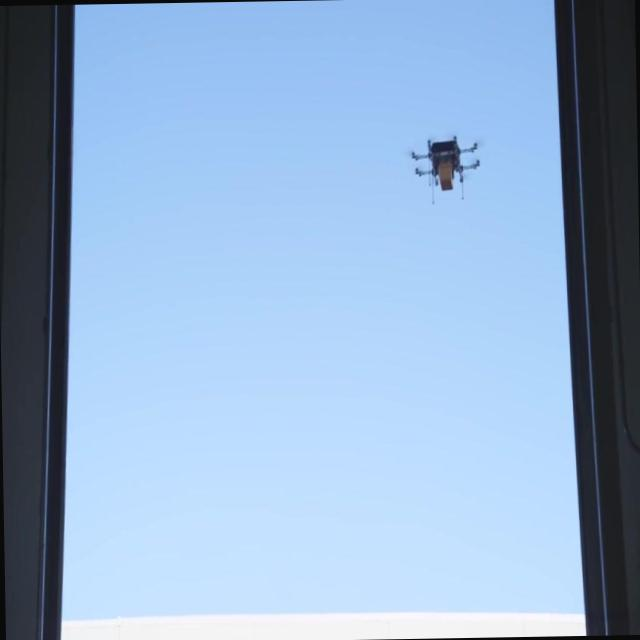drone: (408, 135, 482, 206)
